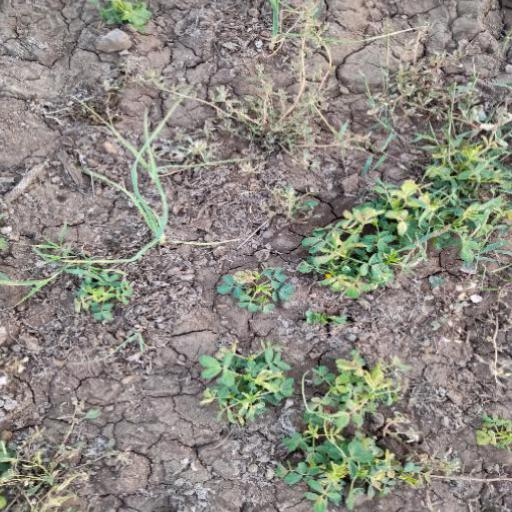weed: (308, 117, 501, 320), (204, 347, 429, 497), (49, 103, 243, 266)
